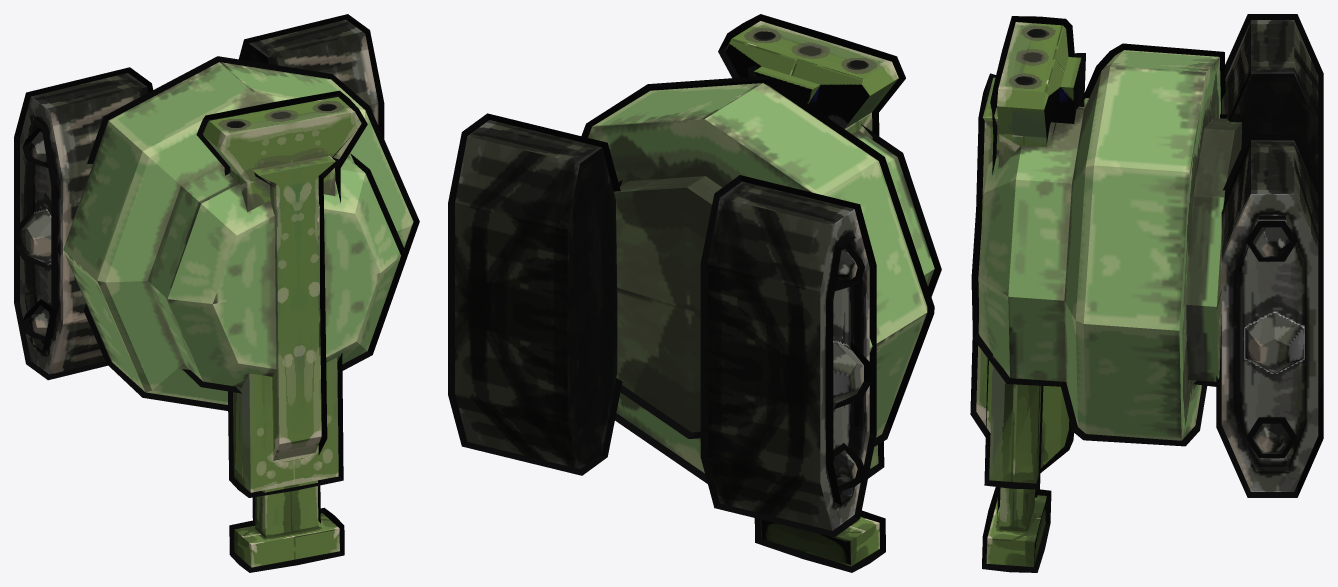
The model's file is turret.glb.
The picture shows the model from 3 angles, left to right: view 1: azimuth 30°, elevation 25°; view 2: azimuth 150°, elevation 25°; view 3: azimuth 270°, elevation 25°; orthographic projection. The views are drawn at different scales.
Visible parts, largest first — view 1: Turret, Cannon, Wheels, Wheels.outline, Cannon.outline, Turret.outline; view 2: Wheels, Turret, Wheels.outline, Cannon, Turret.outline, Cannon.outline; view 3: Turret, Wheels, Cannon, Wheels.outline, Cannon.outline, Turret.outline.
Part boxes in pixels (x1,y1,x2,y2): Turret: [63, 62, 413, 404]; Cannon: [203, 96, 361, 567]; Wheels: [20, 19, 378, 374]; Wheels.outline: [14, 14, 384, 380]; Cannon.outline: [196, 90, 367, 572]; Turret.outline: [57, 56, 419, 410]; Wheels: [455, 120, 869, 530]; Turret: [588, 83, 934, 473]; Wheels.outline: [448, 113, 876, 537]; Cannon: [725, 21, 898, 566]; Turret.outline: [581, 76, 941, 483]; Cannon.outline: [718, 14, 905, 572]; Turret: [978, 50, 1241, 440]; Wheels: [1221, 20, 1318, 491]; Cannon: [976, 22, 1081, 567]; Wheels.outline: [1216, 14, 1323, 497]; Cannon.outline: [970, 16, 1085, 572]; Turret.outline: [971, 43, 1227, 446].
Size of the model in its own units: 7.09 by 8.58 by 5.5.
4 materials, 3 textured.
